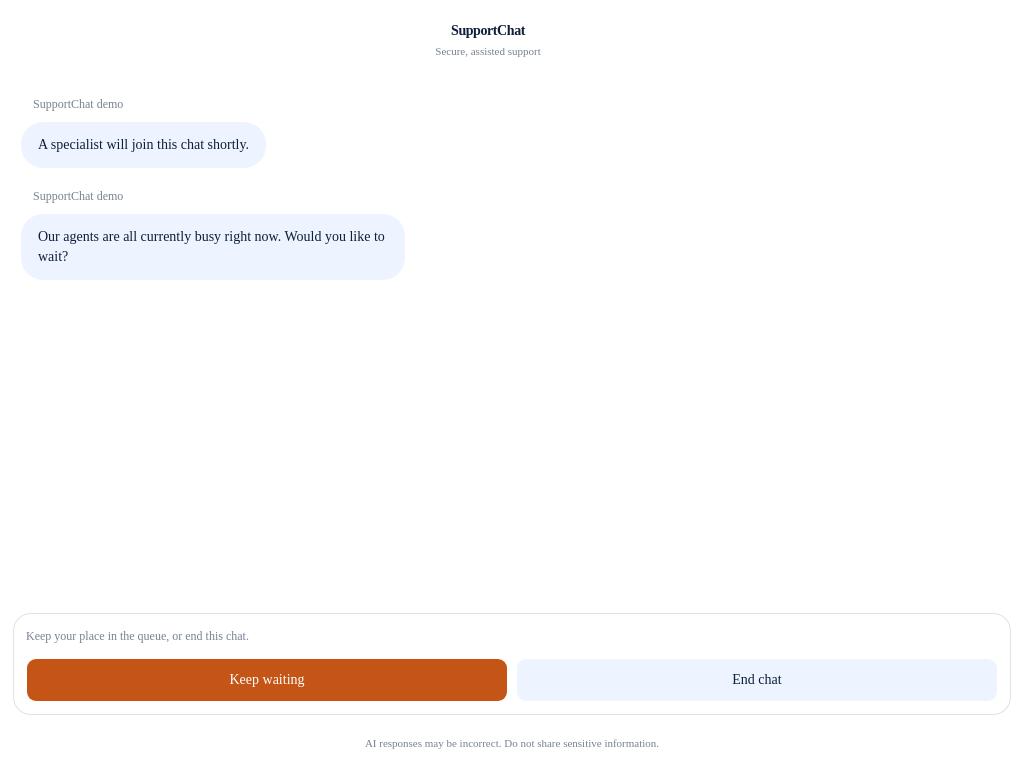
handoff offers End chat using the current server prompt
The width and height of the screenshot is (1024, 768).
Click the button "End chat" at coordinates (757, 680), box x1=516 y1=658 x2=998 y2=702
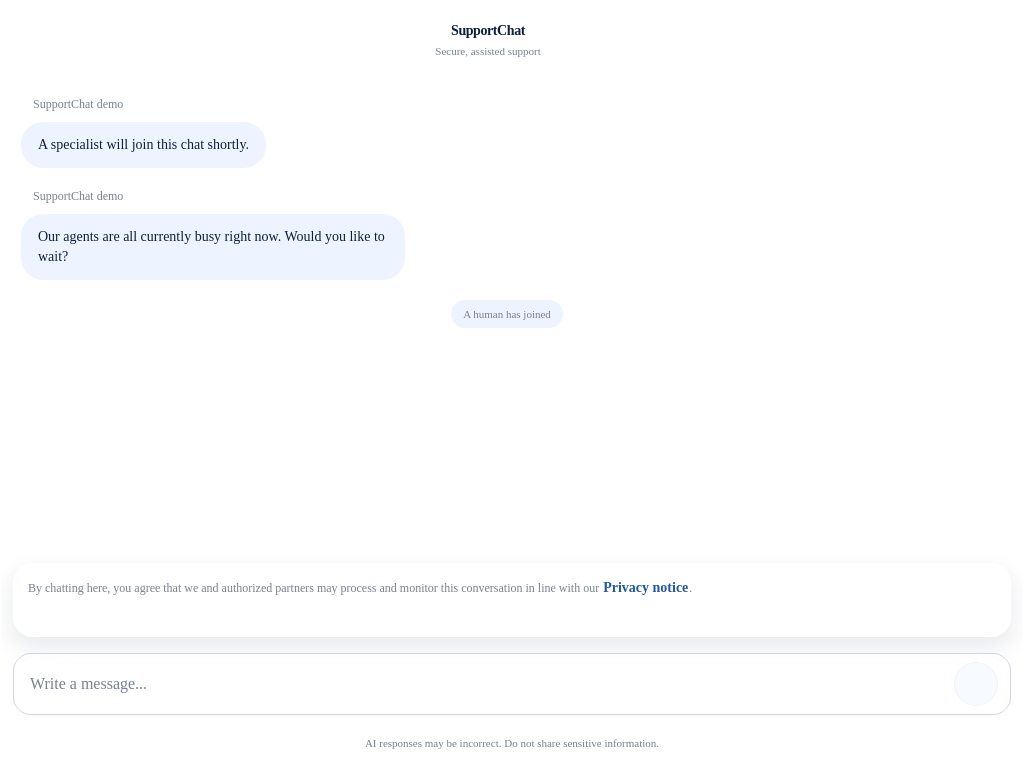
Result: the button "Keep waiting" is gone
Result: the button "End chat" is gone
